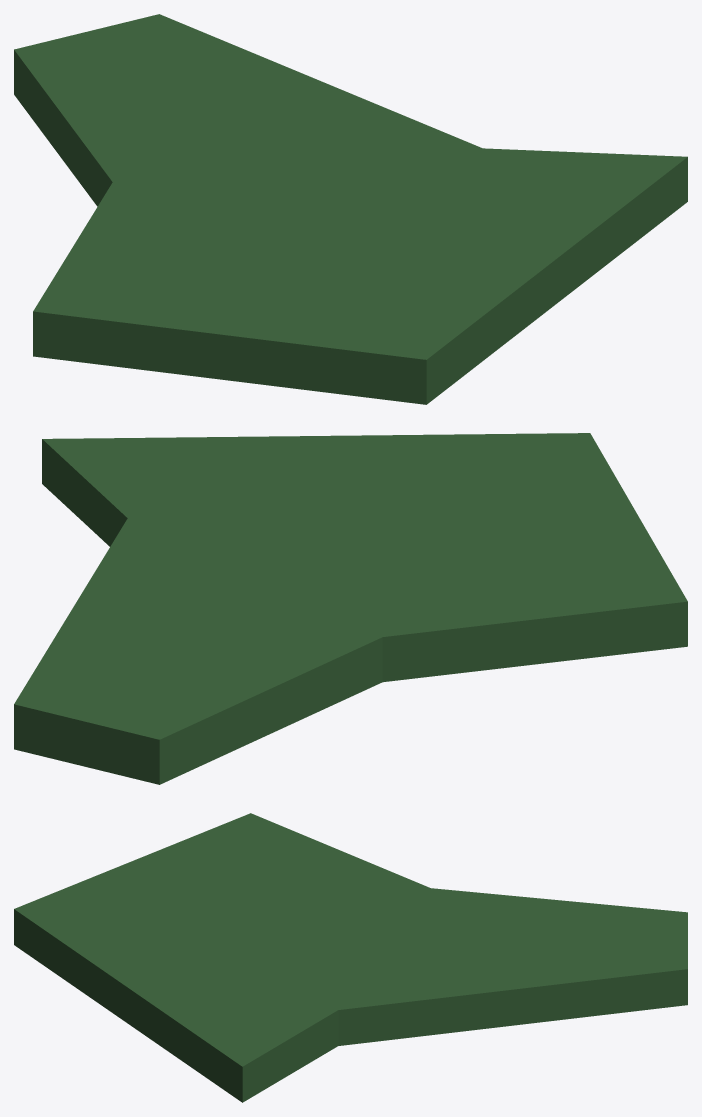
File: x_proval_00_85_1_rmstrd.fbx
The picture shows the model from 3 angles, top to bottom: view 1: azimuth 30°, elevation 25°; view 2: azimuth 150°, elevation 25°; view 3: azimuth 270°, elevation 25°; orthographic projection. The views are drawn at different scales.
Parts seen in each view (by area): view 1: x_proval_00_85_1_rmstrd1; view 2: x_proval_00_85_1_rmstrd1; view 3: x_proval_00_85_1_rmstrd1.
Boxes of the visible parts, x1,y1,x2,y2 form: x_proval_00_85_1_rmstrd1: (14,14,687,404); x_proval_00_85_1_rmstrd1: (14,433,687,784); x_proval_00_85_1_rmstrd1: (14,813,687,1102).
Size of the model in its own units: 3.02 by 0.2 by 3.39.
